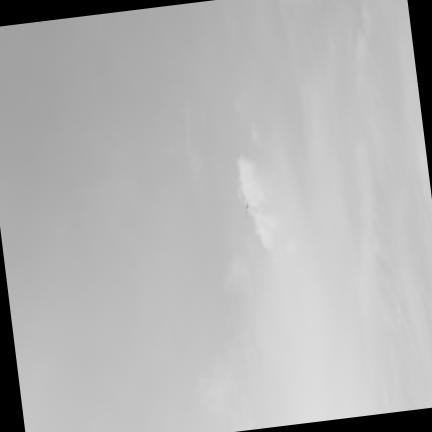Shahed: (244, 197, 248, 216)
